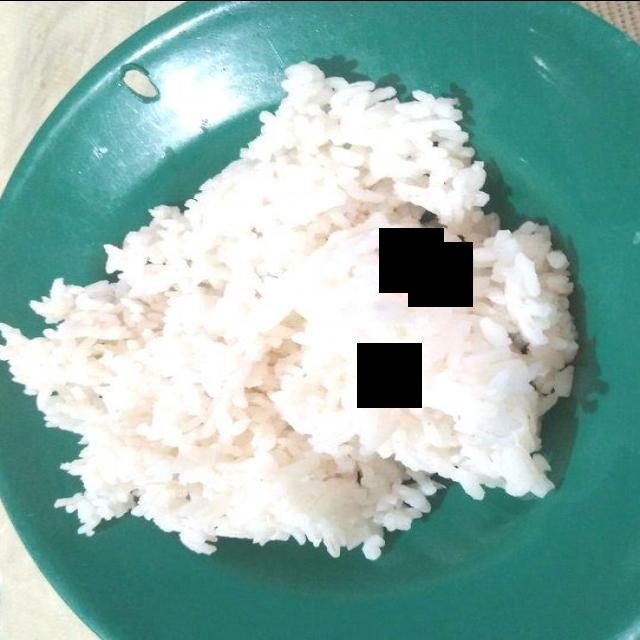rice: (0, 64, 586, 564)
